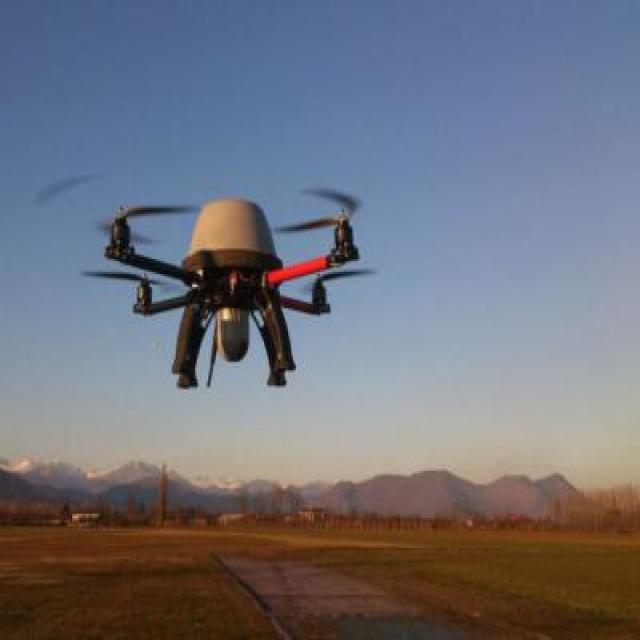drone: (32, 161, 383, 393)
